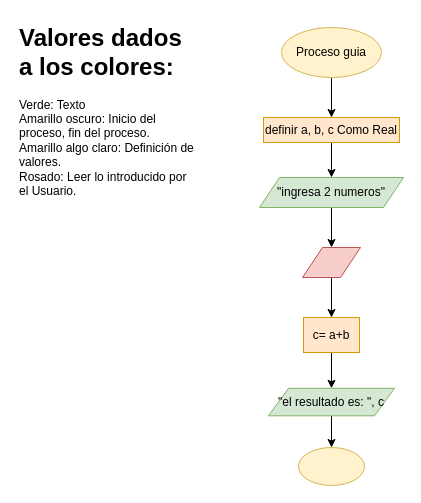
This 421x503 diagram has some shape labels left out. Each missing label, with the box of its shape:
a, b: (302, 246, 360, 278)
Finproceso: (298, 446, 364, 486)
